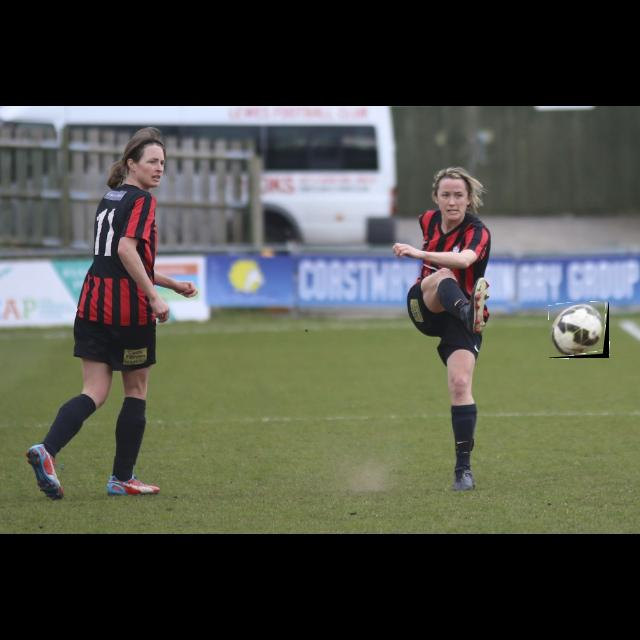Football: (549, 302, 609, 358)
